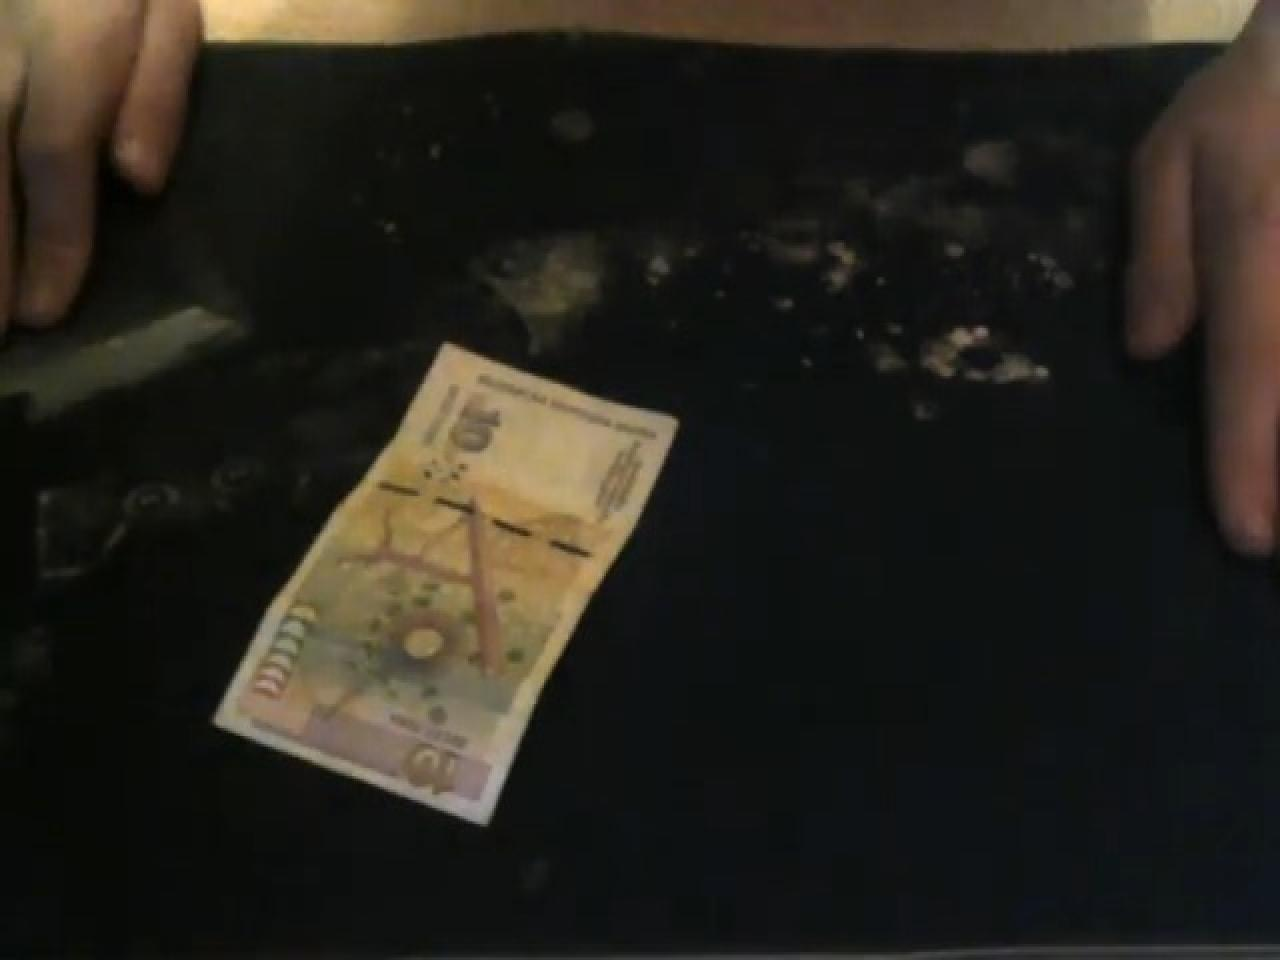10leva: (212, 347, 682, 832)
